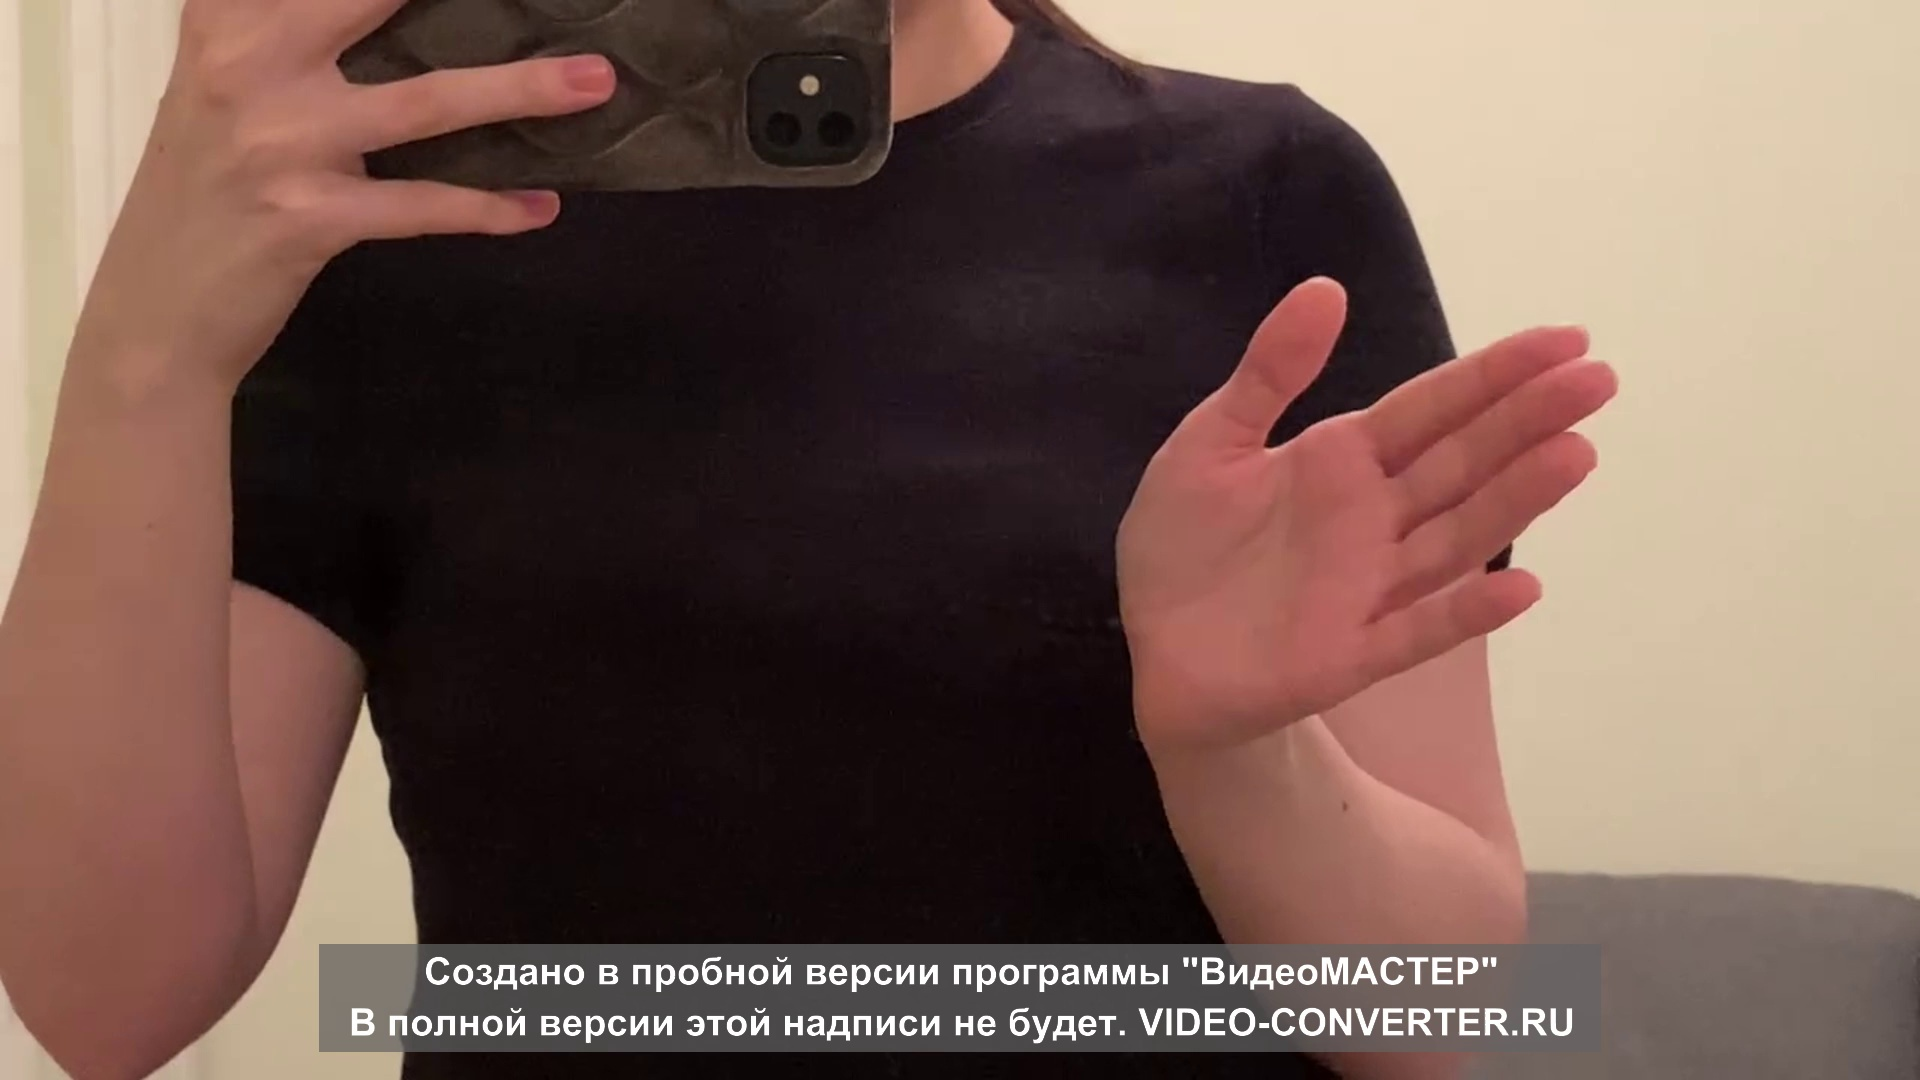Ладонь: (1112, 274, 1618, 735)
